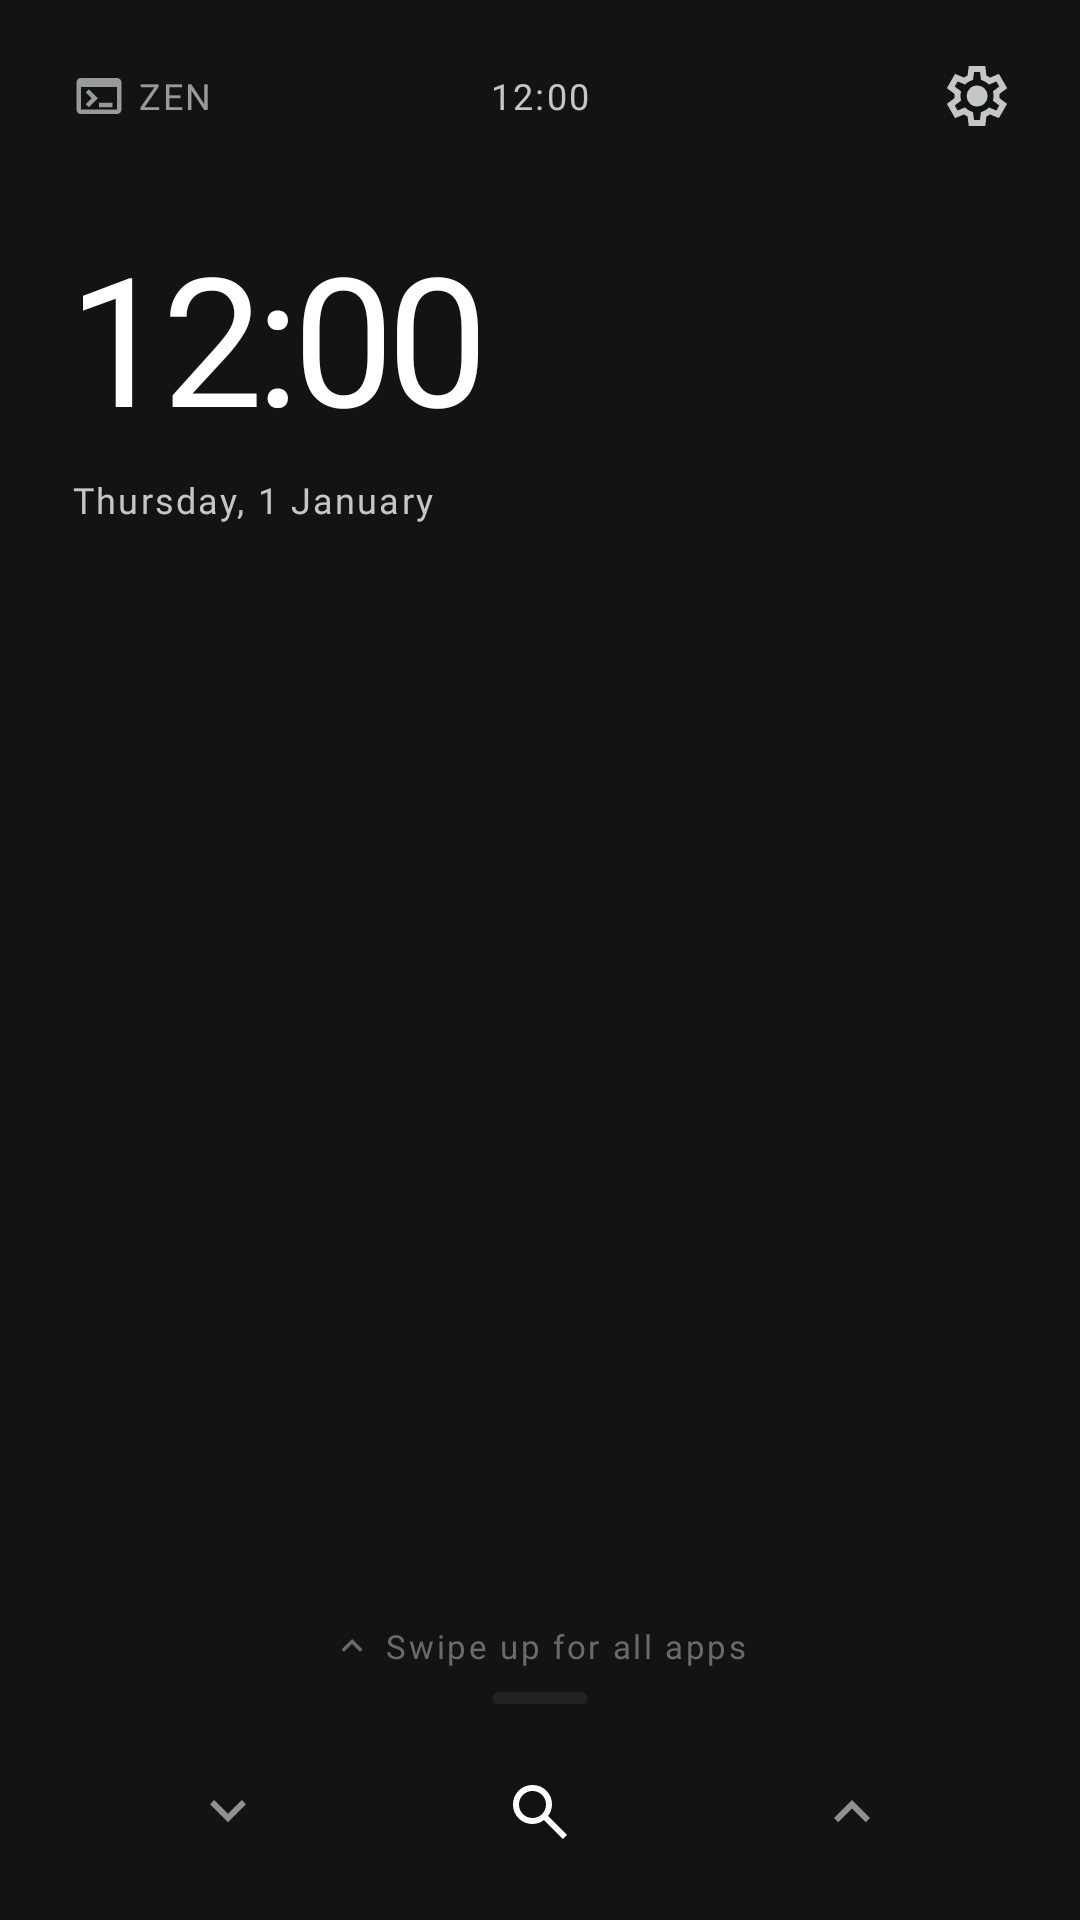

Icons on this 1080*1920 Android screen, each with its box as detection(x1, y1, x2, y2):
Search apps: detection(513, 1785, 567, 1839)
terminal: detection(76, 78, 122, 114)
